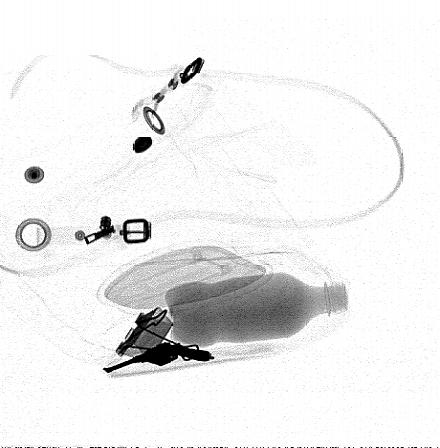Gun: (103, 342, 212, 375)
